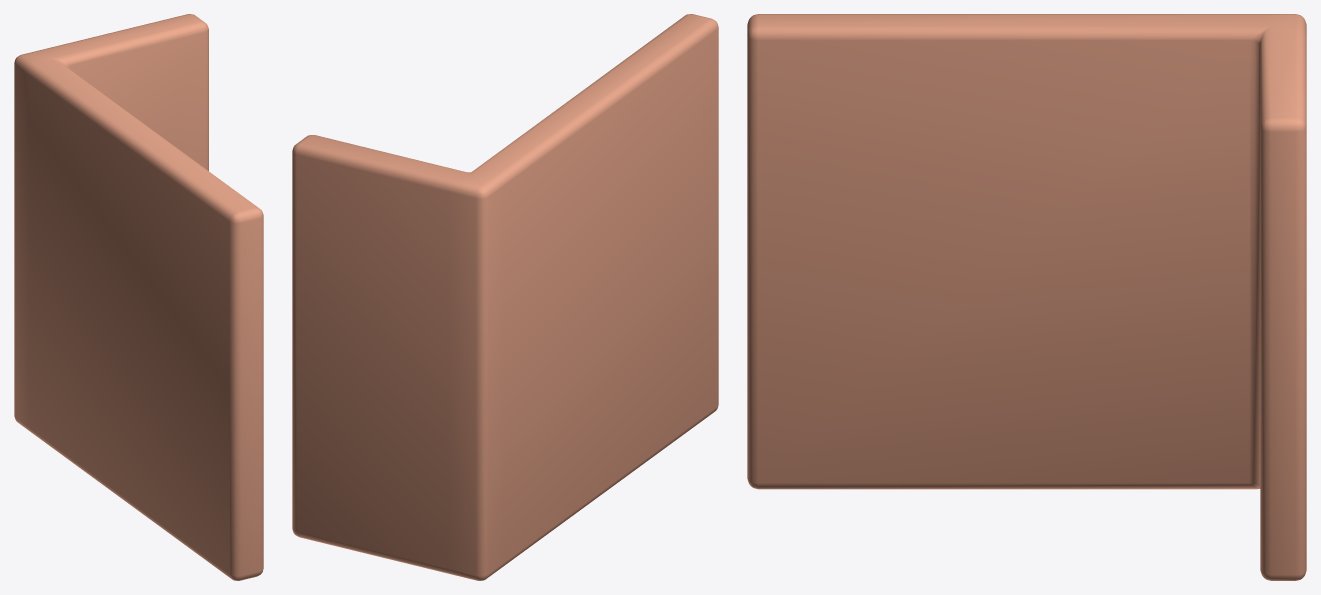
Rendered from block_corner_mid.fbx.
3 renders of one model, left to right at view 1: azimuth 30°, elevation 25°; view 2: azimuth 150°, elevation 25°; view 3: azimuth 270°, elevation 25°, orthographic. The views are drawn at different scales.
Parts seen in each view (by area): view 1: block_corner_mid; view 2: block_corner_mid; view 3: block_corner_mid.
Boxes of the visible parts, x1=… form: block_corner_mid: x1=14, y1=14, x2=263, y2=580; block_corner_mid: x1=292, y1=14, x2=718, y2=580; block_corner_mid: x1=747, y1=14, x2=1306, y2=580.
Bounding box in the file's own units: 363 × 700 × 768.
